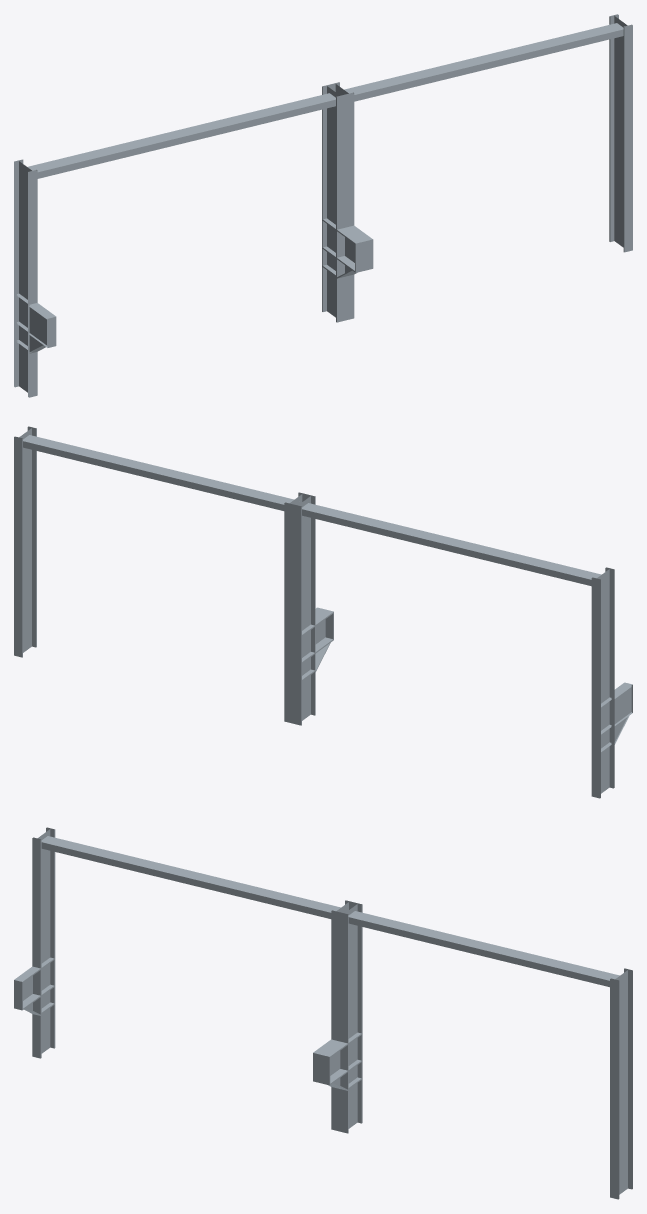
The model's file is SM06_Building_Structure_Wall_Top_02_Corner.fbx.
3 renders of one model, top to bottom at view 1: azimuth 30°, elevation 25°; view 2: azimuth 150°, elevation 25°; view 3: azimuth 330°, elevation 25°, orthographic. The views are drawn at different scales.
Parts seen in each view (by area): view 1: SM06_Building_Structure_Wall_Top_02_Corner; view 2: SM06_Building_Structure_Wall_Top_02_Corner; view 3: SM06_Building_Structure_Wall_Top_02_Corner.
Boxes of the visible parts, x1,y1,x2,y2 form: SM06_Building_Structure_Wall_Top_02_Corner: (14, 14, 632, 397); SM06_Building_Structure_Wall_Top_02_Corner: (14, 426, 632, 798); SM06_Building_Structure_Wall_Top_02_Corner: (14, 827, 632, 1199).
Bounding box in the file's own units: 13.83 × 4.93 × 1.34.
